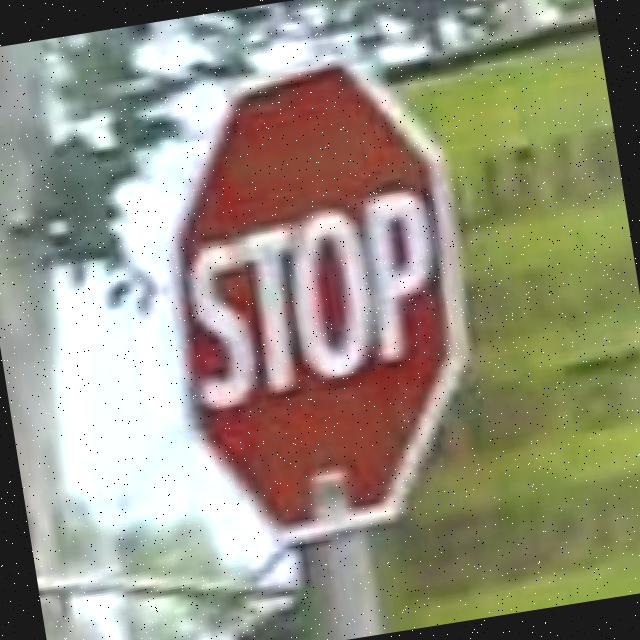Stop: (132, 71, 498, 565)
